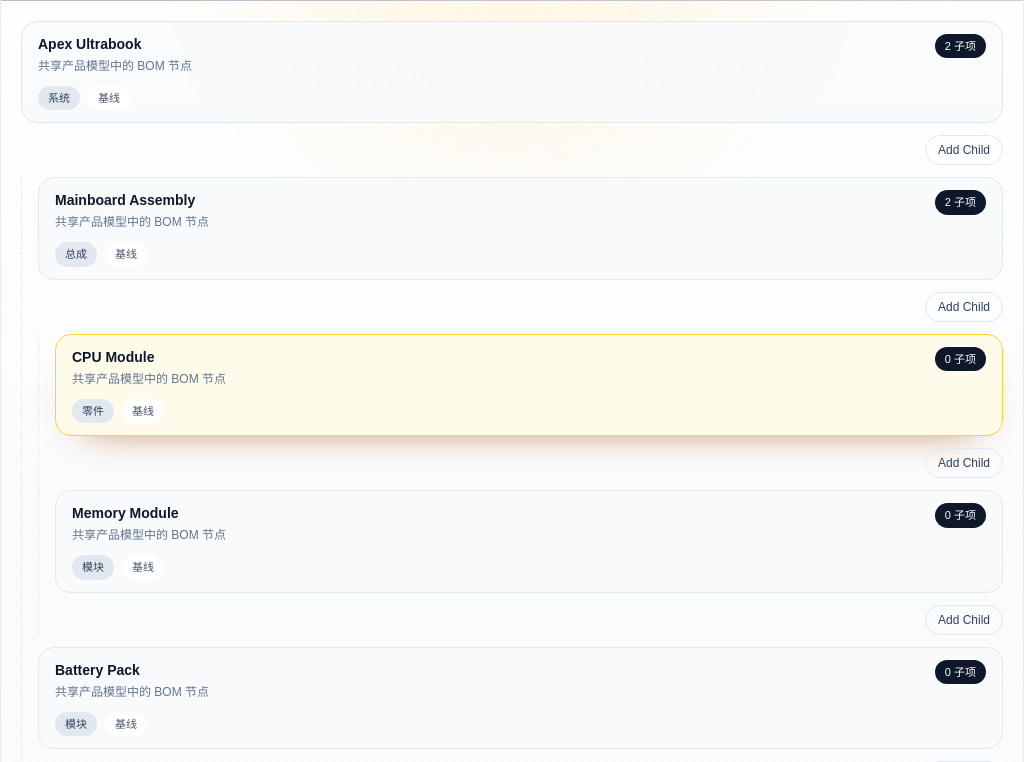
Test: ProductModelingPage › creates a changeable parameter for the selected component
(page scrolled)
Step 1. Click the button "CPU Module 共享产品模型中的 BOM 节点 0 子项 零件 基线" → (113, 356), box [55, 334, 1003, 436]
(page scrolled)
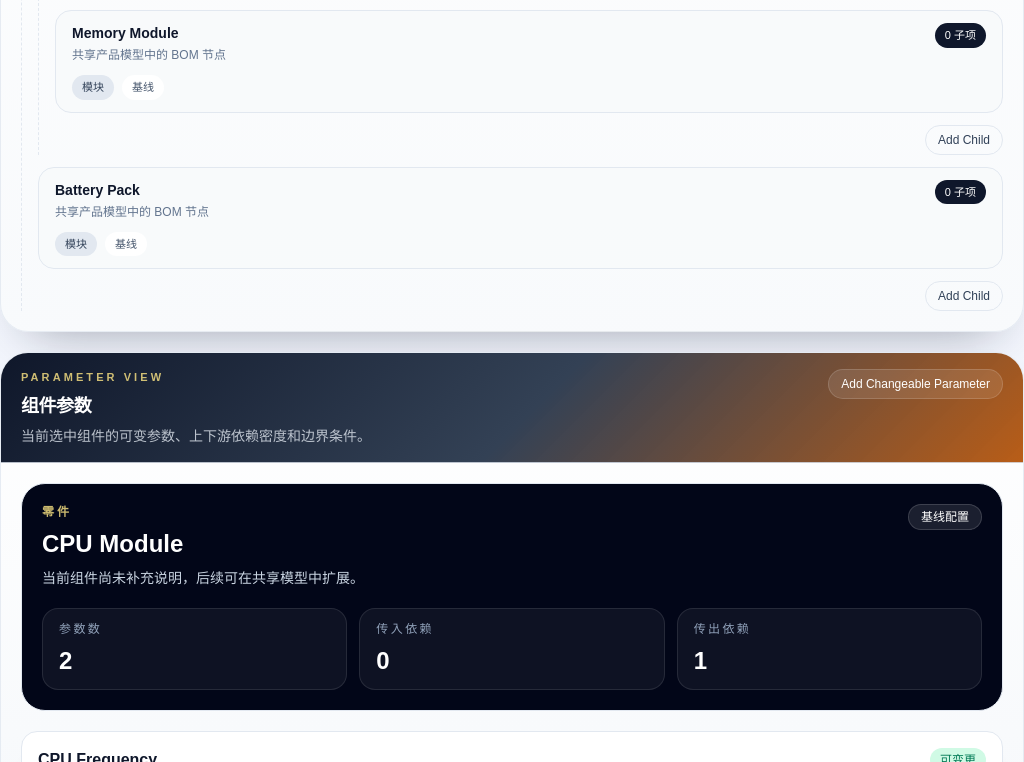
Step 2. Click the button "Add Changeable Parameter" → (916, 384), box [828, 369, 1003, 399]
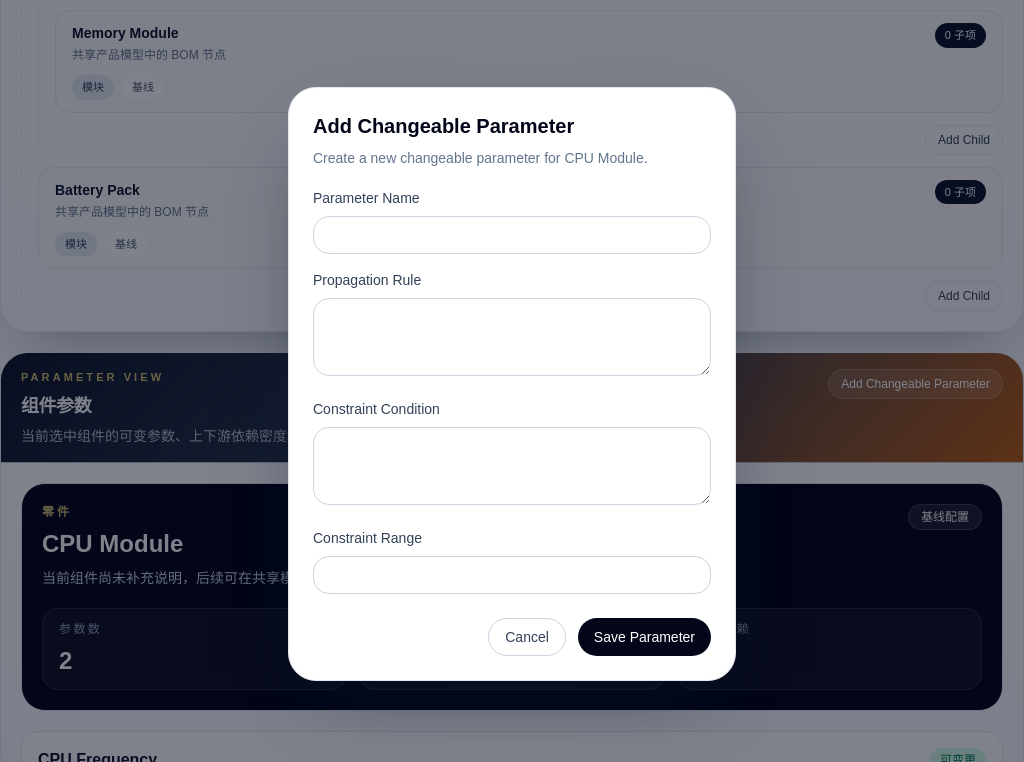
Step 3. Type "Thermal Margin" into the field labelled "Parameter Name" → (512, 235), box [313, 216, 711, 254]
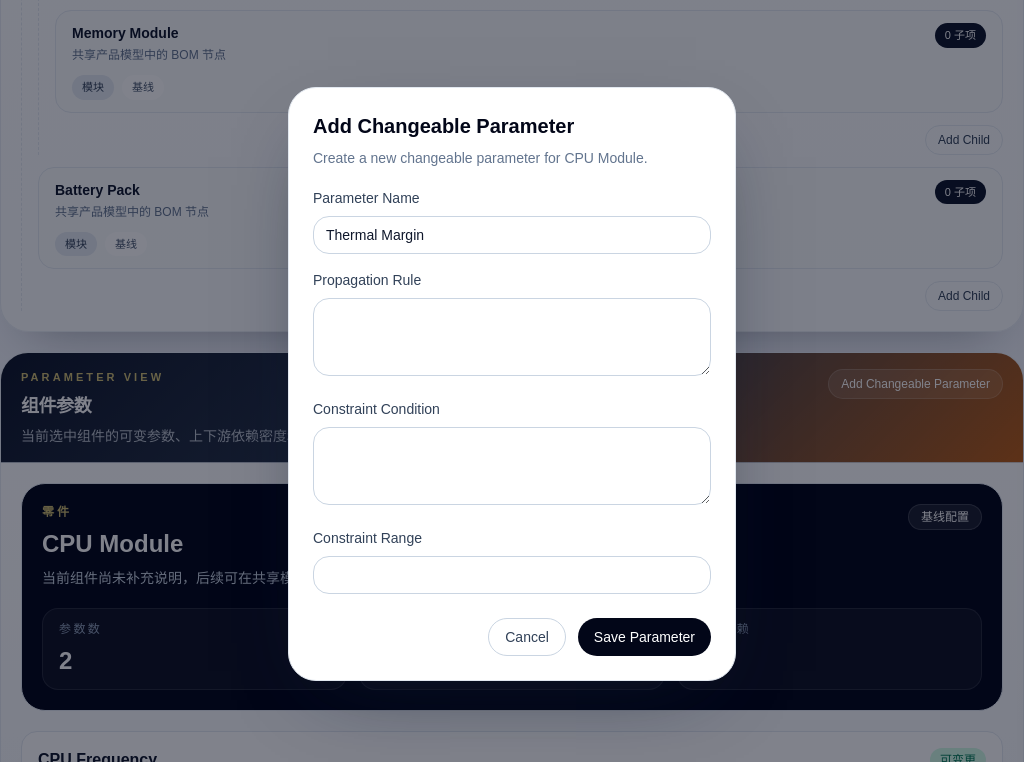
Step 4. Click the button "Save Parameter" → (644, 637), box [578, 618, 711, 656]
(page scrolled)
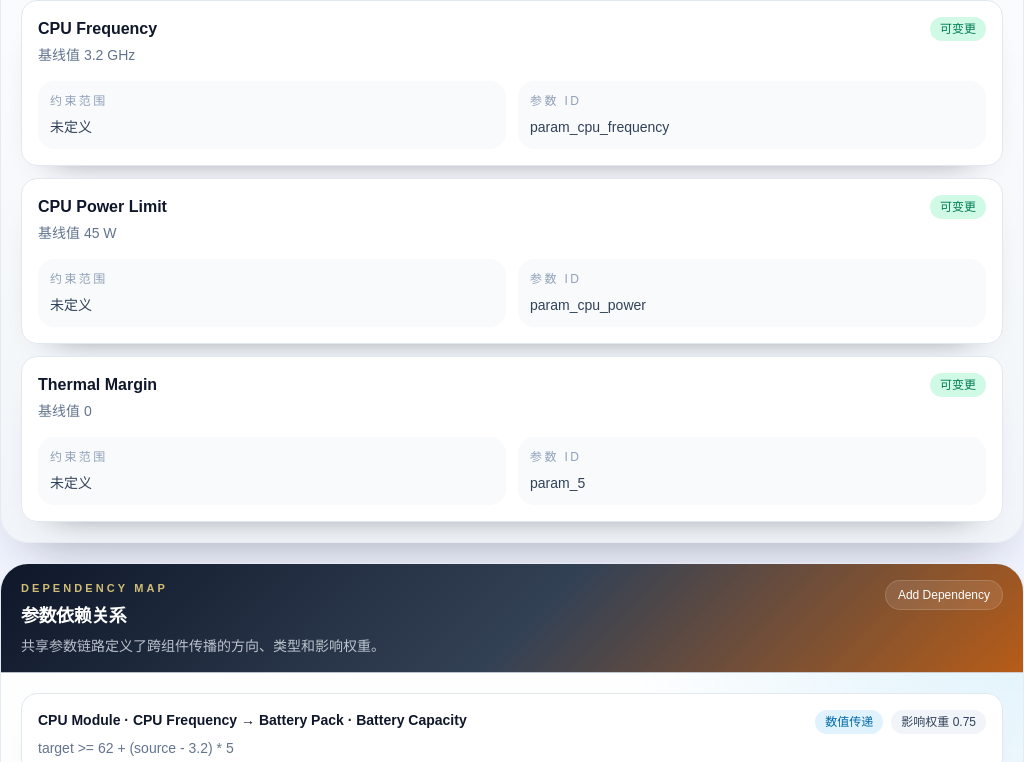
Expected: the heading "Thermal Margin" is shown, [38, 372, 157, 396]
